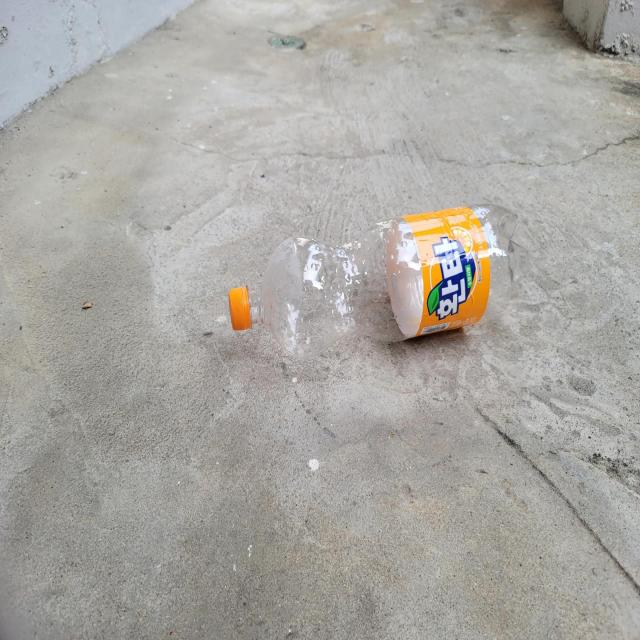plastic: (229, 204, 518, 357)
